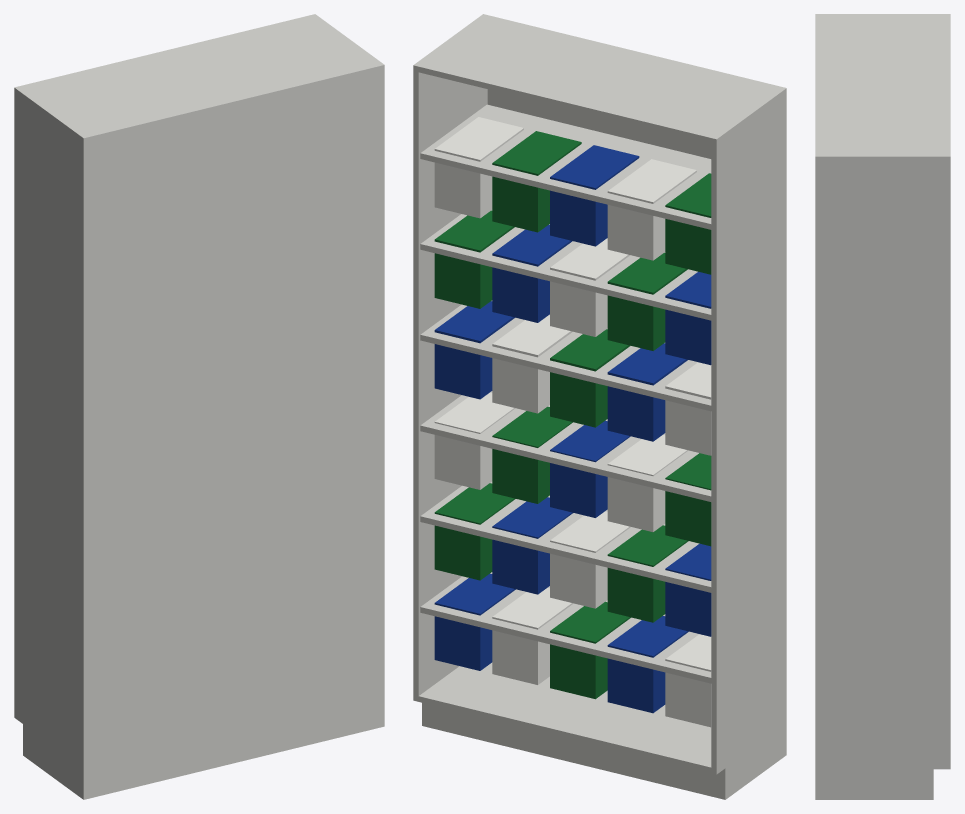
The model's file is hospital.lab.pharmacy_shelving.glb.
3 renders of one model, left to right at view 1: azimuth 30°, elevation 25°; view 2: azimuth 150°, elevation 25°; view 3: azimuth 270°, elevation 25°, orthographic. The views are drawn at different scales.
Parts seen in each view (by area): view 1: main__laminate_white; view 2: main__laminate_white, main__paint_white, main__plastic_green, main__plastic_blue; view 3: main__laminate_white.
Part boxes in pixels (bbox=[...]): main__laminate_white: bbox=[14, 14, 384, 799]; main__laminate_white: bbox=[413, 14, 786, 799]; main__paint_white: bbox=[434, 117, 711, 727]; main__plastic_green: bbox=[434, 131, 711, 699]; main__plastic_blue: bbox=[434, 145, 711, 713]; main__laminate_white: bbox=[815, 14, 950, 799].
Bounding box in the file's own units: 1 × 2.1 × 0.4.
